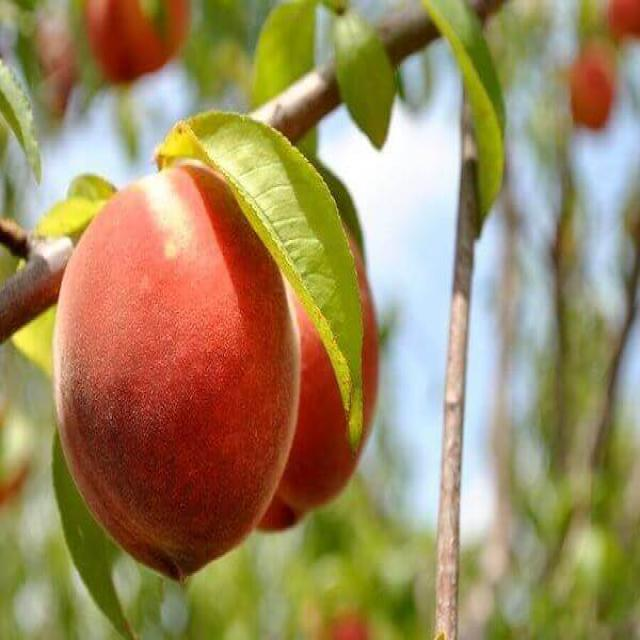Peach: (4, 110, 381, 588)
